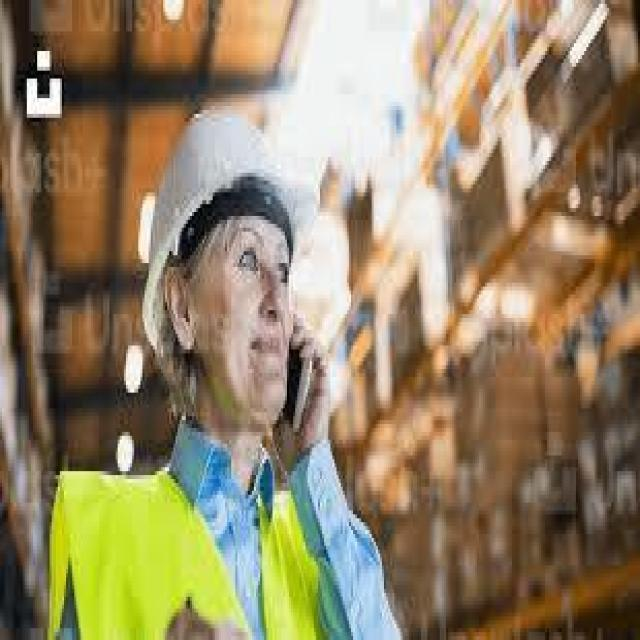safety_helmet: (50, 462, 325, 640)
